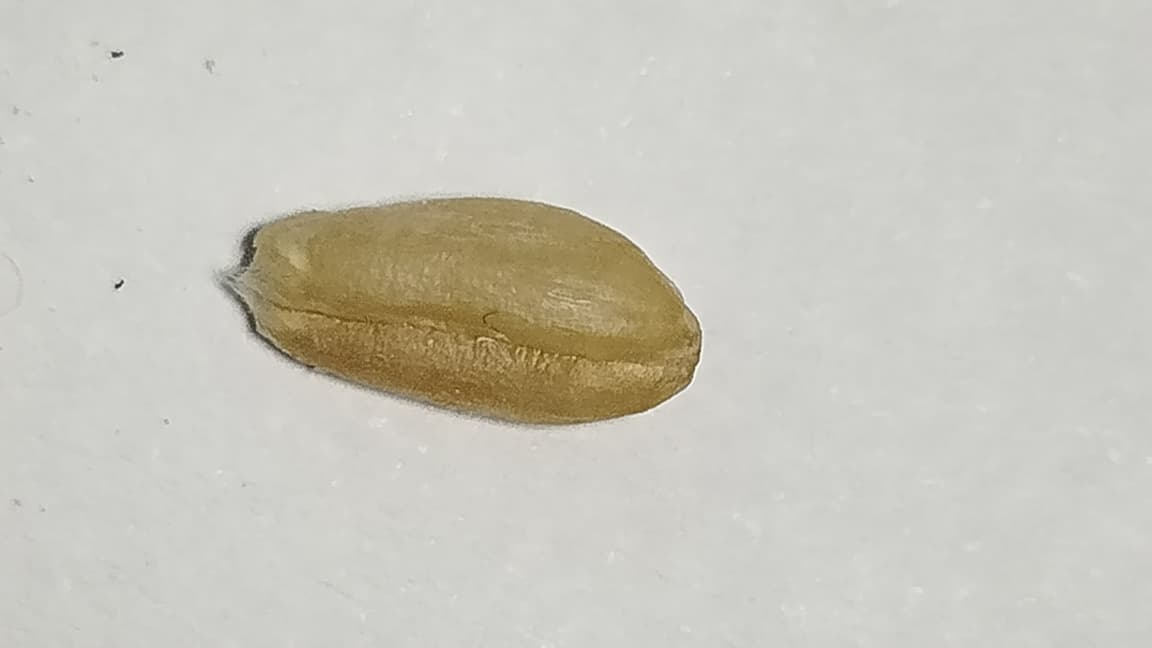healthy: (232, 198, 700, 425)
